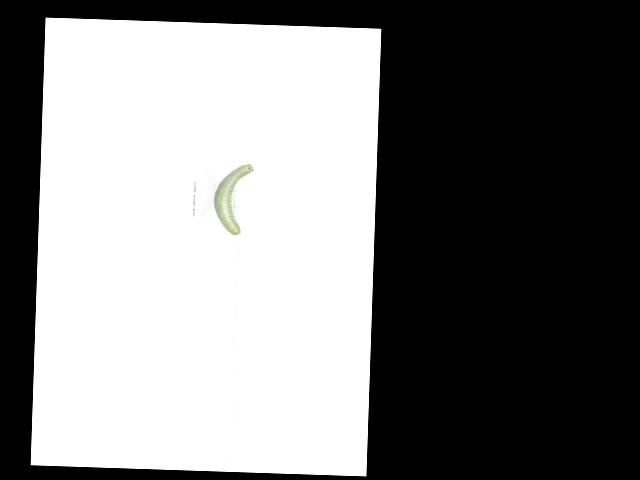cucumber: (213, 163, 253, 235)
